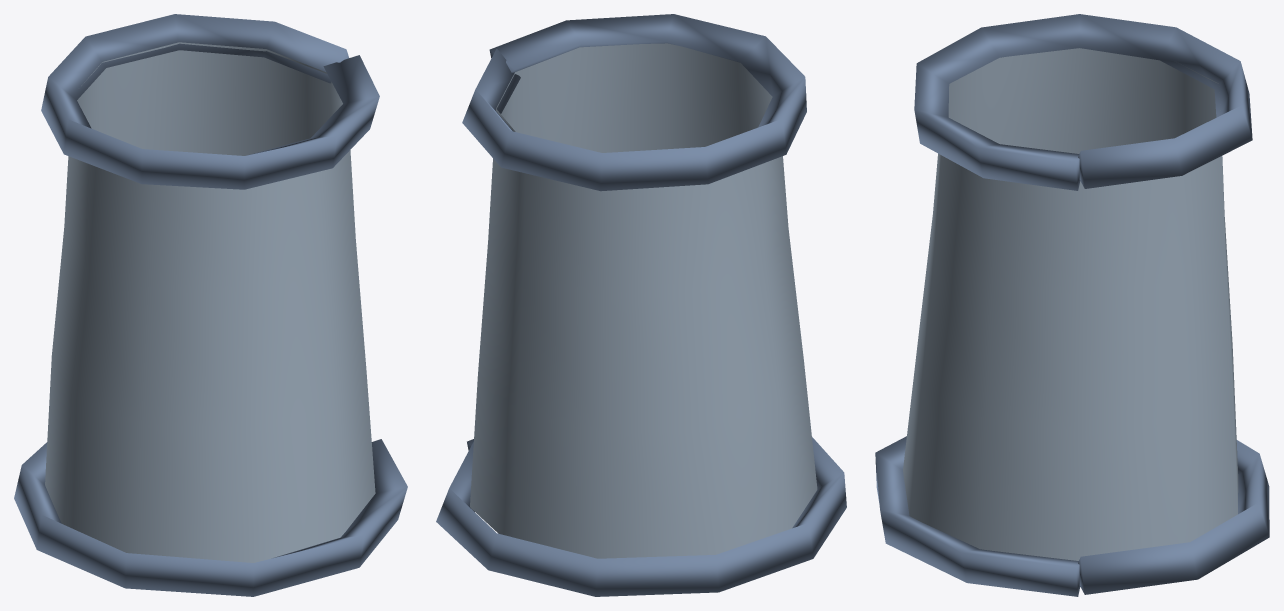
Rendered from titanium_armor_bracer.L.glb.
3 views of the same model, side by side, from view 1: azimuth 30°, elevation 25°; view 2: azimuth 150°, elevation 25°; view 3: azimuth 270°, elevation 25° (orthographic). The views are drawn at different scales.
Parts seen in each view (by area): view 1: titanium_armor_bracer.L; view 2: titanium_armor_bracer.L; view 3: titanium_armor_bracer.L.
Boxes of the visible parts, bbox=[...] form: titanium_armor_bracer.L: bbox=[14, 14, 407, 596]; titanium_armor_bracer.L: bbox=[436, 14, 846, 596]; titanium_armor_bracer.L: bbox=[875, 14, 1269, 596].
Bounding box in the file's own units: 0.144 × 0.1719 × 0.1414.
